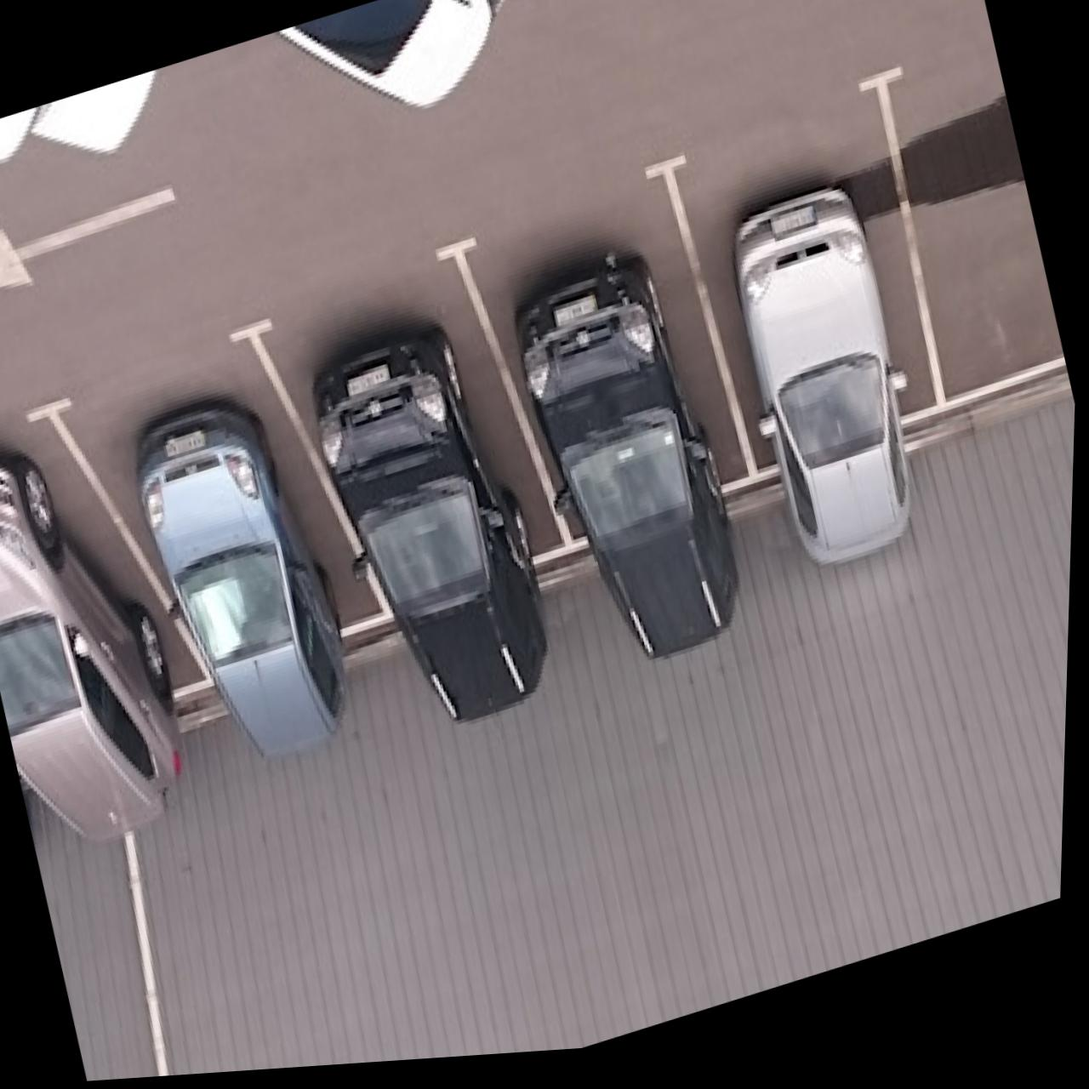cars: (93, 325, 384, 758), (491, 150, 752, 606), (303, 263, 565, 709), (680, 75, 948, 482), (0, 392, 196, 846)
